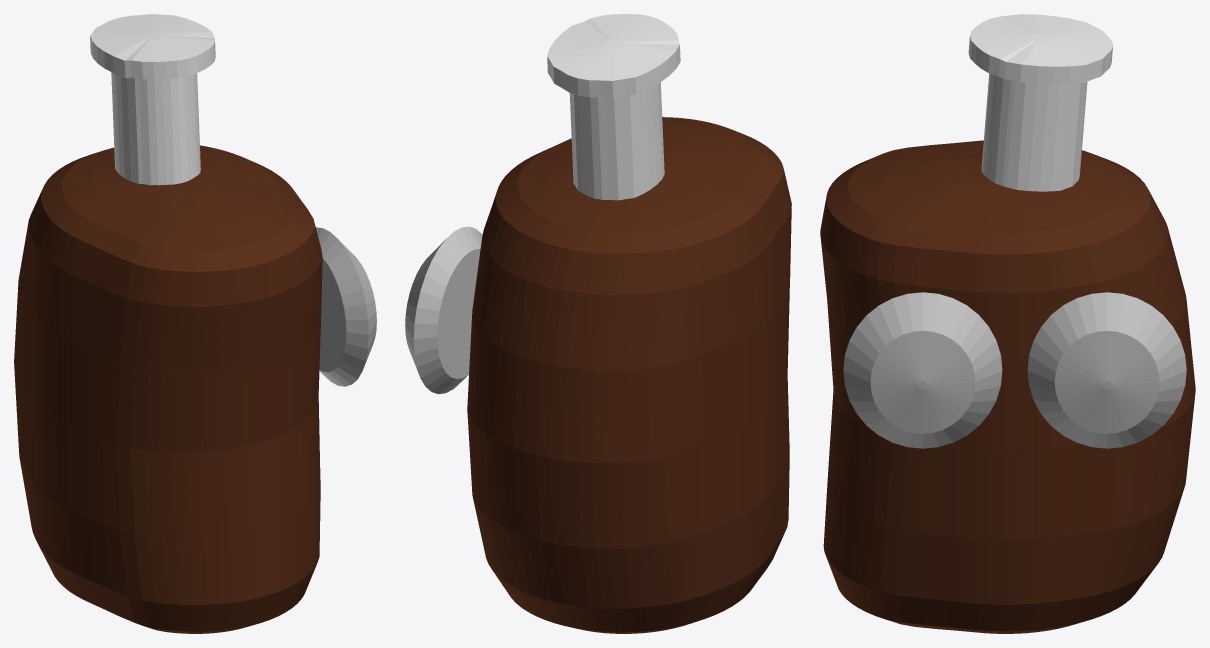
The model's file is Bean_Chef.fbx.
3 views of the same model, side by side, from view 1: azimuth 30°, elevation 25°; view 2: azimuth 150°, elevation 25°; view 3: azimuth 270°, elevation 25° (orthographic). The views are drawn at different scales.
Visible parts, largest first — view 1: Cylinder, Cylinder.001, Circle; view 2: Cylinder, Cylinder.001, Circle; view 3: Cylinder, Circle, Cylinder.001.
Part boxes in pixels (x1,y1,x2,y2): Cylinder: (14, 145, 322, 633); Cylinder.001: (90, 14, 215, 185); Circle: (316, 227, 376, 386); Cylinder: (467, 117, 791, 633); Cylinder.001: (547, 14, 680, 200); Circle: (405, 226, 482, 394); Cylinder: (820, 140, 1195, 633); Circle: (843, 292, 1186, 448); Cylinder.001: (968, 14, 1112, 191).
Size of the model in its own units: 224 by 432 by 255.
